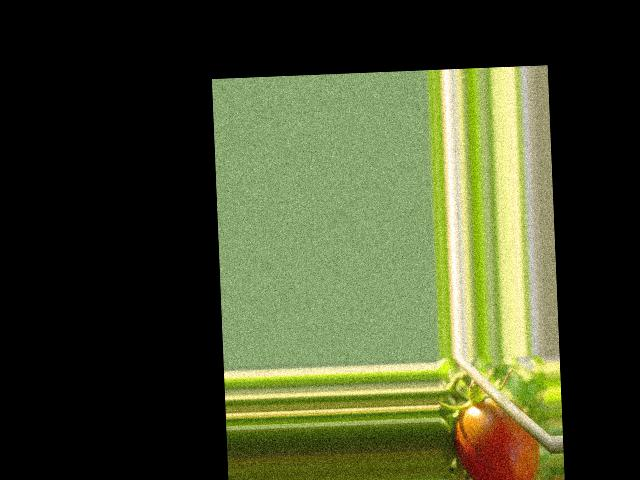tomato: (455, 396, 539, 480)
